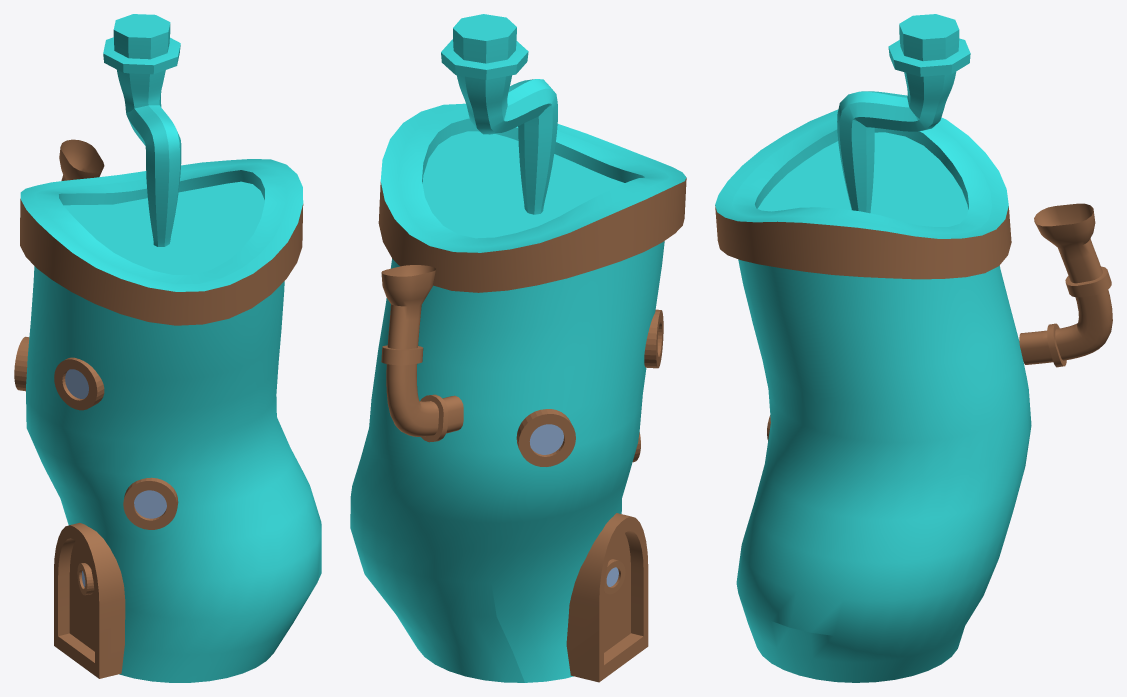
File: Mofle_Aqua.fbx
3 renders of one model, left to right at view 1: azimuth 30°, elevation 25°; view 2: azimuth 150°, elevation 25°; view 3: azimuth 270°, elevation 25°, orthographic. The views are drawn at different scales.
Visible parts, largest first — view 1: Circle.007; view 2: Circle.007; view 3: Circle.007.
Part boxes in pixels (box(x1,y1,x2,y2)): Circle.007: box(14, 14, 321, 682); Circle.007: box(350, 14, 686, 682); Circle.007: box(715, 14, 1112, 682).
Size of the model in its own units: 11.54 by 24.04 by 14.16.
